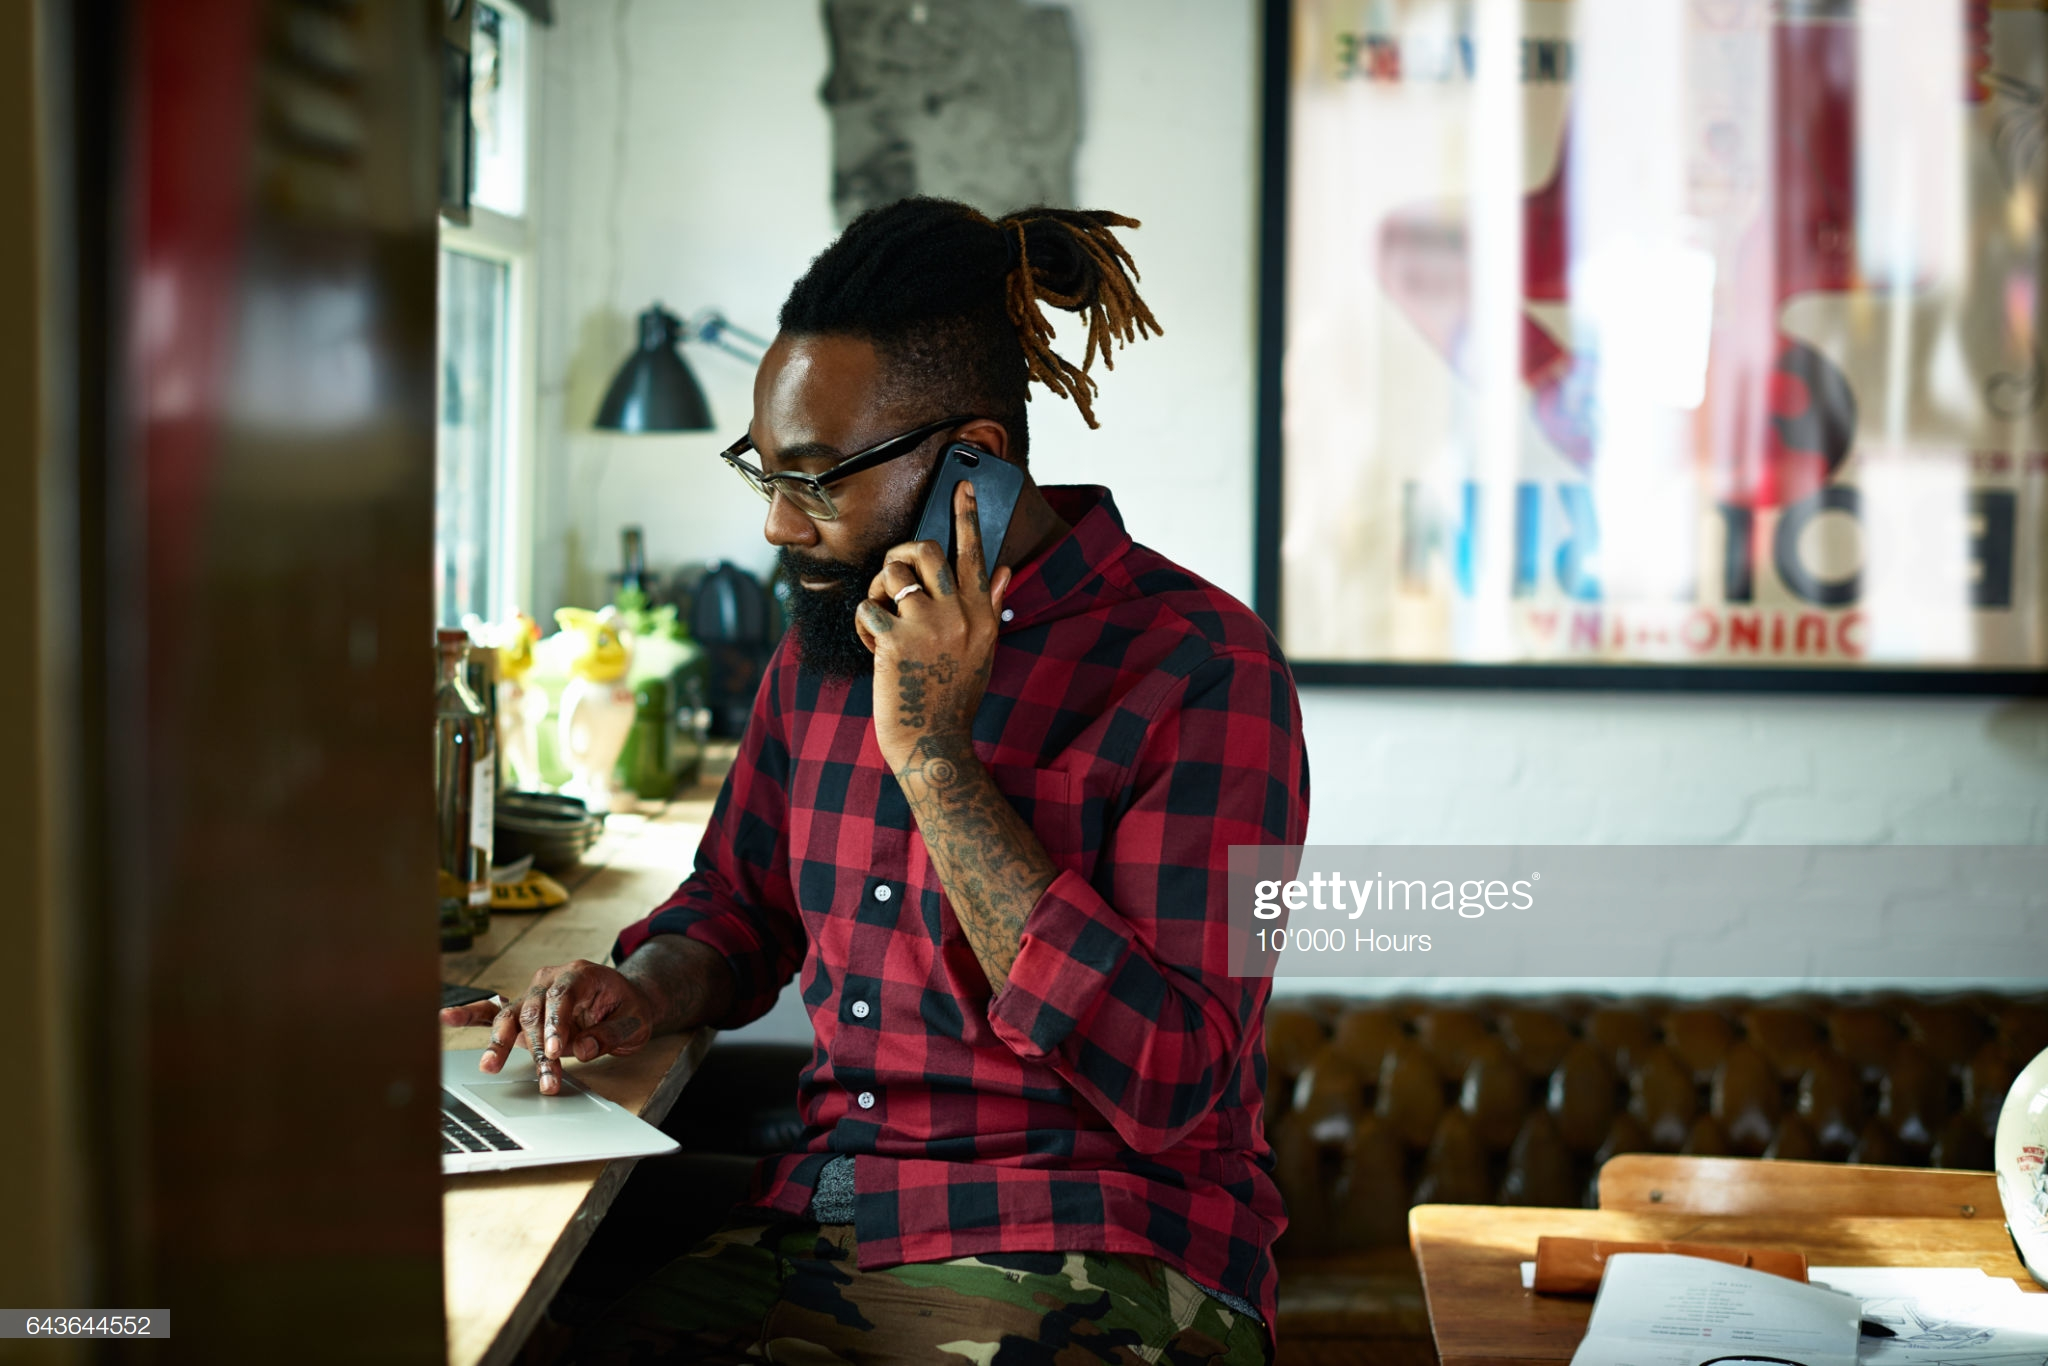phone: (920, 438, 1024, 665)
talk: (744, 419, 1048, 717)
